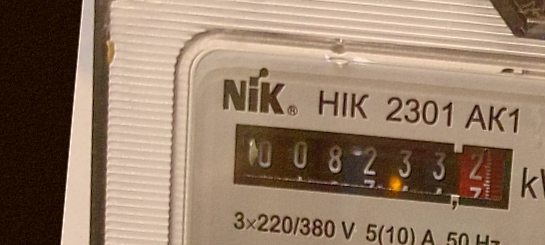0: (253, 137, 276, 170), (289, 139, 310, 171)
2: (358, 145, 380, 179), (466, 150, 486, 183)
3: (394, 147, 414, 180), (430, 149, 449, 182)
8: (324, 142, 344, 175)
screen: (219, 112, 526, 220)
